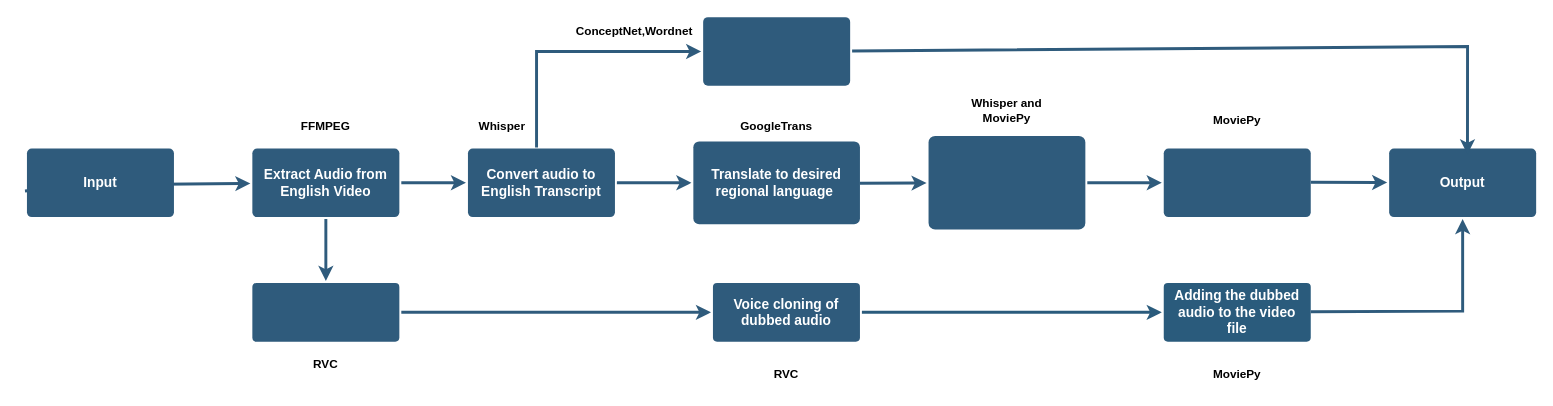
This 1553x406 diagram has some shape labels left out. The centre of each missing label's shape, as x and y in pixels:
"Add subtitles to video file" belongs at (x=1236, y=182).
"Convert translated transcripts to timestamps based subtitles" belongs at (x=1006, y=182).
"Create Summarization & Q&A Session" belongs at (x=776, y=51).
"Voice model creation" belongs at (x=325, y=311).
